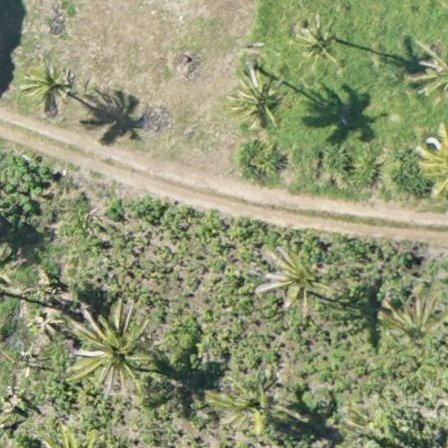palm_tree: (71, 303, 157, 395), (378, 298, 448, 359), (209, 378, 278, 433), (262, 246, 321, 308), (228, 75, 283, 130), (20, 63, 73, 115), (294, 15, 342, 63)
